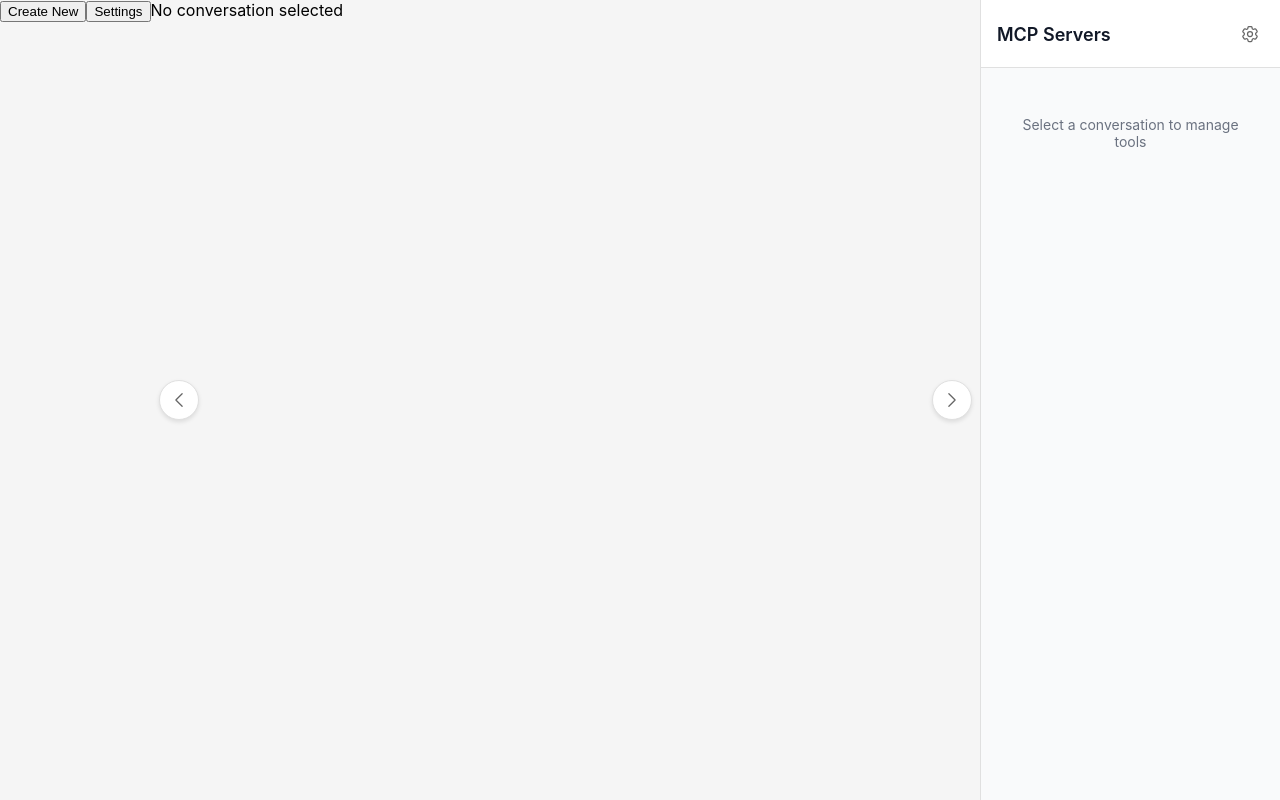
App Integration › shows current settings in modal
Step 1. Click the button titled "Settings" → (118,12), box [86,1,151,22]
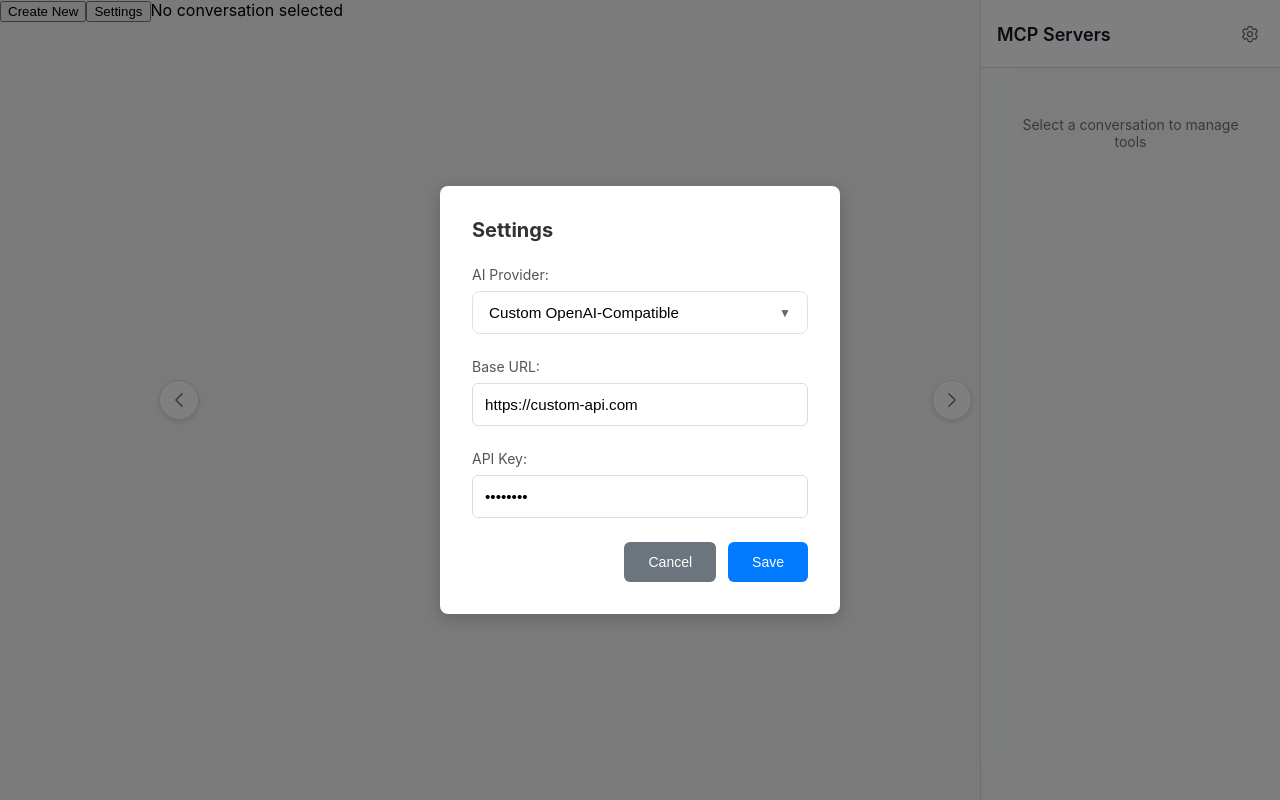
Expected: the password field showing "test-key" is shown, [472,475,808,518]
